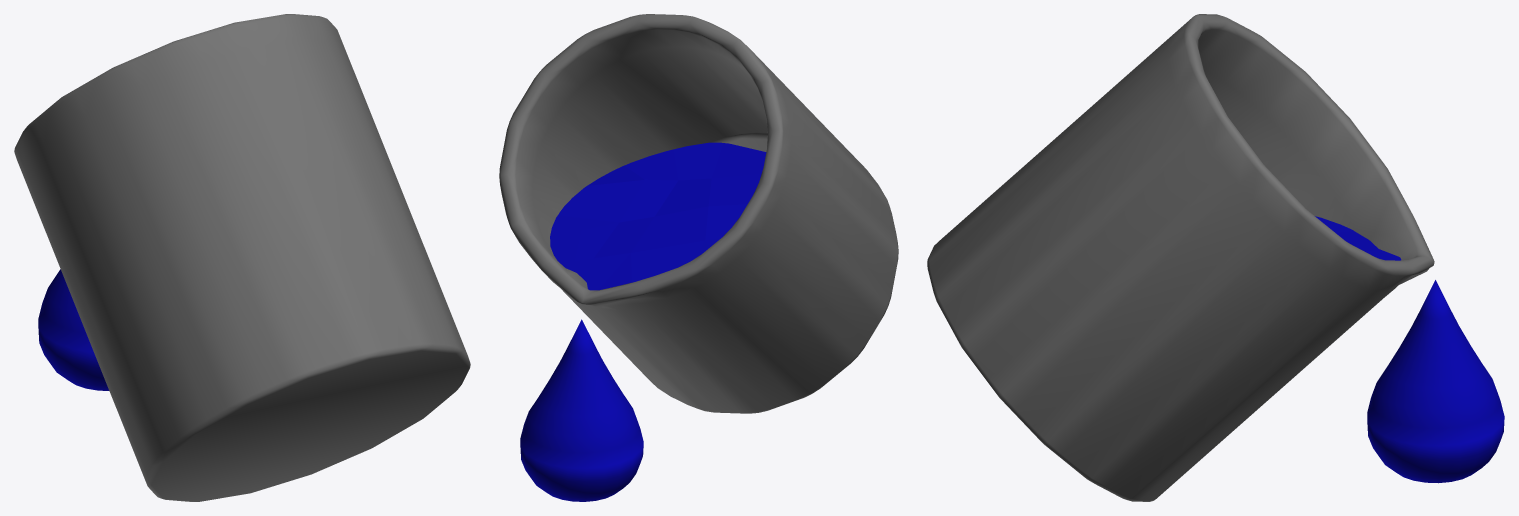
Rendered from FillToolReady.fbx.
The picture shows the model from 3 angles, left to right: view 1: azimuth 30°, elevation 25°; view 2: azimuth 150°, elevation 25°; view 3: azimuth 270°, elevation 25°; orthographic projection. The views are drawn at different scales.
Parts seen in each view (by area): view 1: Sphere; view 2: Sphere; view 3: Sphere.
Boxes of the visible parts, <box> form: Sphere: <box>14,14,470,501</box>; Sphere: <box>499,14,898,501</box>; Sphere: <box>927,14,1504,501</box>.
Bounding box in the file's own units: 0.3336 × 0.4878 × 0.57.
